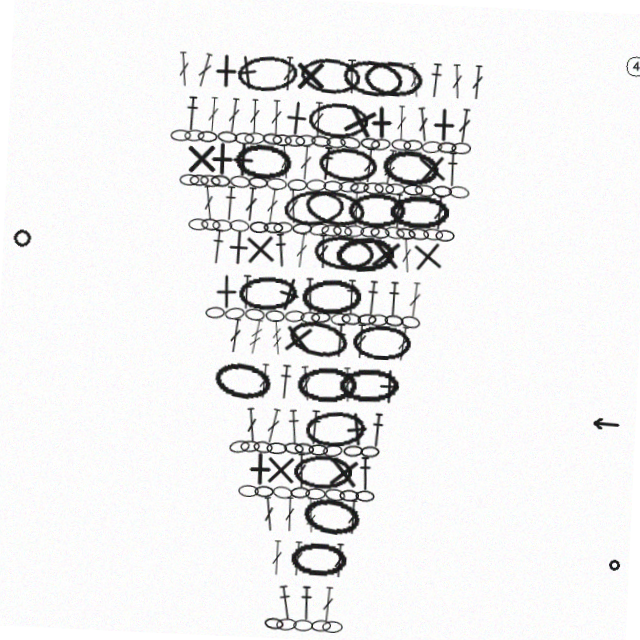chain: (287, 317, 352, 362), (297, 186, 362, 230), (330, 55, 394, 97), (310, 494, 372, 537), (277, 187, 340, 229), (215, 363, 277, 405), (309, 408, 372, 448), (225, 56, 288, 96), (288, 56, 351, 95), (331, 232, 392, 272), (236, 277, 298, 315), (299, 277, 361, 315), (310, 145, 372, 183), (374, 144, 434, 183), (310, 233, 371, 271), (341, 365, 402, 402), (352, 57, 413, 94), (227, 145, 286, 183), (342, 189, 402, 226), (299, 366, 360, 402), (384, 190, 444, 226), (299, 102, 360, 137), (300, 454, 359, 490), (353, 322, 413, 357), (301, 542, 359, 577), (234, 442, 257, 458), (304, 222, 326, 237), (331, 134, 353, 149), (224, 310, 245, 325), (380, 222, 401, 237), (332, 487, 354, 501), (193, 179, 215, 193), (408, 179, 430, 193), (442, 179, 464, 193), (413, 135, 435, 149), (280, 487, 301, 501), (328, 443, 349, 457), (330, 311, 351, 325), (400, 311, 421, 325), (328, 223, 349, 237), (391, 223, 412, 237), (343, 179, 364, 193), (362, 135, 383, 149), (223, 179, 245, 192), (290, 619, 311, 632), (289, 443, 310, 456), (244, 311, 265, 324), (284, 311, 305, 324), (310, 311, 331, 324), (196, 223, 217, 236), (404, 223, 425, 236), (332, 179, 353, 192), (236, 135, 257, 148), (287, 135, 308, 148), (302, 135, 323, 148), (278, 619, 298, 632), (325, 619, 345, 632), (298, 487, 318, 500), (246, 443, 266, 456), (259, 443, 279, 456), (300, 443, 320, 456), (349, 443, 369, 456), (366, 443, 386, 456), (205, 311, 225, 324), (341, 311, 361, 324), (357, 311, 377, 324), (368, 311, 388, 324), (384, 311, 404, 324), (225, 223, 245, 236), (269, 223, 289, 236), (288, 223, 308, 236), (340, 223, 360, 236), (356, 223, 376, 236), (419, 223, 439, 236), (204, 179, 224, 192), (242, 179, 262, 192), (300, 179, 320, 192), (368, 179, 388, 192), (176, 135, 196, 148), (209, 135, 229, 148), (254, 135, 274, 148), (352, 135, 372, 148), (383, 135, 403, 148), (395, 135, 415, 148), (336, 620, 357, 632), (246, 488, 267, 500), (313, 488, 334, 500), (272, 444, 293, 456), (317, 224, 338, 236), (260, 180, 281, 192), (357, 180, 378, 192), (162, 136, 183, 148), (276, 136, 297, 148), (307, 620, 327, 632), (262, 488, 282, 500), (347, 488, 367, 500), (363, 488, 383, 500), (314, 444, 334, 456), (265, 312, 285, 324), (300, 312, 320, 324), (184, 224, 204, 236), (208, 224, 228, 236), (245, 224, 265, 236), (259, 224, 279, 236), (366, 224, 386, 236), (431, 224, 451, 236), (173, 180, 193, 192), (183, 180, 203, 192), (281, 180, 301, 192), (317, 180, 337, 192), (379, 180, 399, 192), (397, 180, 417, 192), (426, 180, 446, 192), (189, 136, 209, 148), (226, 136, 246, 148), (264, 136, 284, 148), (318, 136, 338, 148), (429, 136, 449, 148), (443, 136, 463, 148)
double: (184, 58, 203, 94), (269, 410, 287, 446), (395, 58, 412, 94), (270, 498, 286, 534), (301, 366, 317, 402), (406, 102, 422, 138), (249, 410, 264, 446), (196, 190, 211, 226), (291, 234, 306, 269), (396, 234, 411, 269), (217, 102, 232, 137), (448, 102, 463, 137), (165, 58, 180, 93), (397, 322, 411, 358), (260, 190, 274, 226), (334, 586, 348, 621), (229, 322, 243, 357), (407, 278, 421, 313), (239, 190, 253, 225), (281, 190, 295, 225), (271, 146, 285, 181), (355, 146, 369, 181), (439, 58, 453, 93), (302, 542, 315, 577), (302, 454, 315, 489), (344, 366, 357, 401), (355, 322, 368, 357), (428, 190, 441, 225), (292, 146, 305, 181), (271, 58, 284, 93), (460, 58, 473, 93), (282, 542, 294, 577), (356, 498, 368, 533), (261, 366, 273, 401), (314, 234, 326, 269), (345, 190, 357, 225), (387, 190, 399, 225), (198, 102, 210, 137), (261, 102, 273, 137), (303, 102, 315, 137), (345, 542, 356, 577), (293, 498, 304, 533), (240, 102, 251, 137), (387, 102, 398, 137)
half_double: (289, 586, 308, 622), (291, 410, 307, 446), (270, 234, 286, 270), (312, 410, 327, 445), (375, 410, 390, 445), (364, 278, 379, 313), (207, 234, 222, 269), (312, 146, 327, 181), (175, 102, 190, 137), (333, 58, 348, 93), (417, 58, 432, 93), (365, 454, 379, 489), (281, 366, 295, 401), (334, 322, 348, 357), (302, 278, 316, 313), (218, 190, 232, 225), (313, 586, 326, 621), (239, 278, 252, 313), (344, 278, 357, 313), (386, 278, 399, 313), (439, 146, 452, 181)
noise: (612, 40, 636, 64), (7, 240, 30, 263), (595, 405, 624, 417), (619, 545, 631, 557)
single: (329, 98, 372, 141), (267, 275, 309, 317), (216, 56, 256, 96), (342, 408, 381, 447), (405, 232, 444, 271), (280, 321, 318, 359), (238, 233, 276, 271), (406, 145, 444, 183), (332, 453, 369, 490), (364, 233, 401, 270), (269, 101, 306, 138), (207, 278, 243, 314), (176, 146, 212, 182), (354, 102, 390, 138), (281, 58, 317, 94), (249, 454, 284, 489), (270, 454, 305, 489), (375, 366, 410, 401), (218, 234, 253, 269), (197, 146, 232, 181), (218, 146, 253, 181), (417, 102, 452, 137), (197, 58, 232, 93)
treble: (248, 322, 265, 358), (375, 146, 391, 182), (313, 498, 327, 533), (271, 322, 285, 357)
